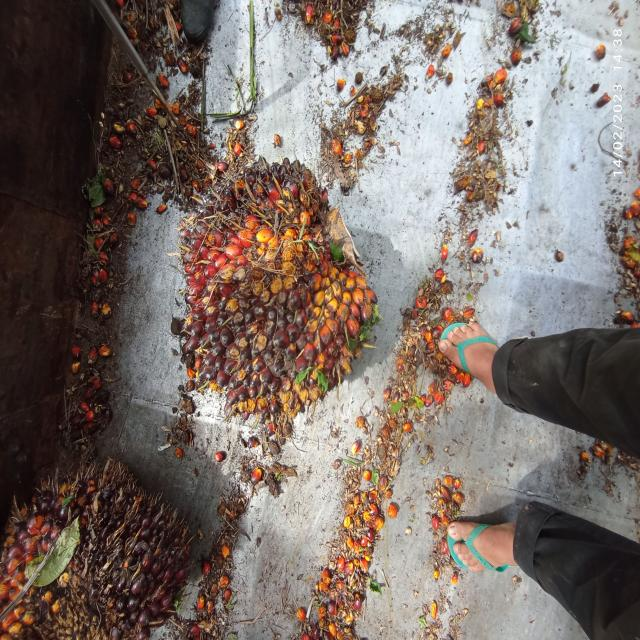fraksi 00: (163, 156, 387, 415)
